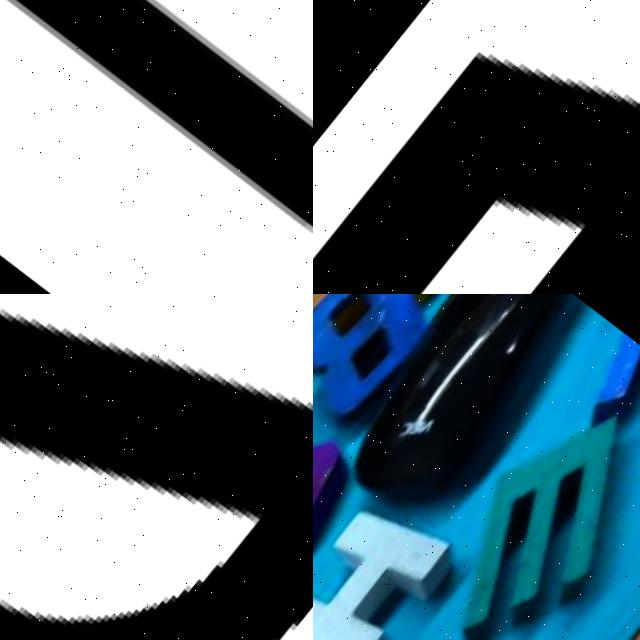B: (313, 294, 472, 453)
D: (0, 294, 313, 640)
F: (313, 0, 640, 294)
G: (313, 404, 372, 626)
H: (313, 475, 478, 640)
M: (404, 405, 640, 640)
U: (0, 0, 313, 284)
